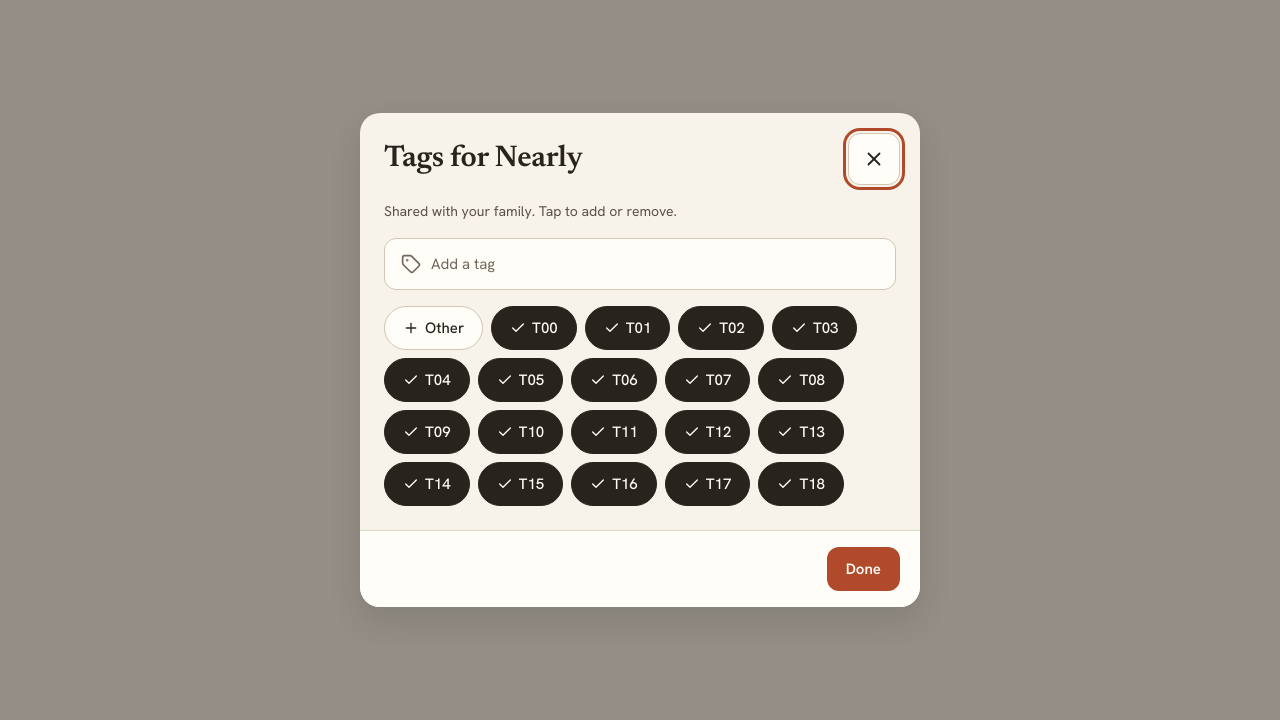
Test: TagSheet › keeps the 20-tag message in a live region that is there, empty, before the twentieth tag fills the show
Step 1. Click the button "Other" → (434, 328), box [384,306,483,350]
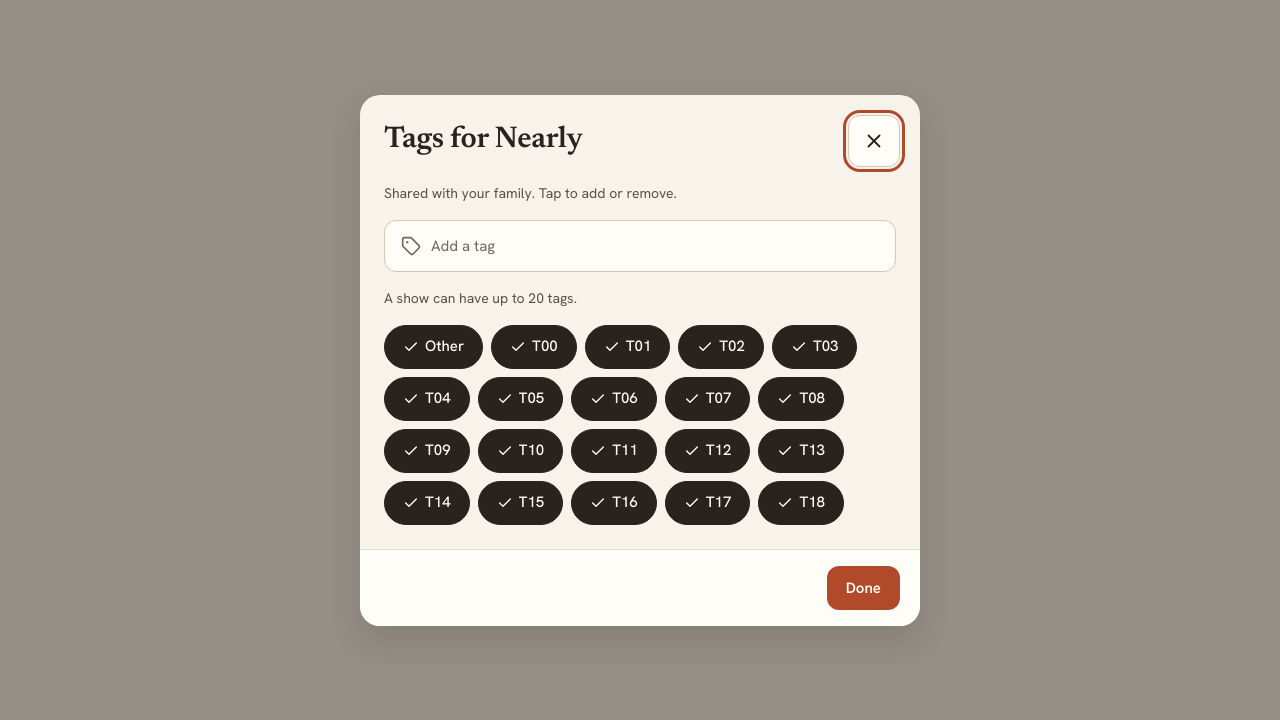
Check: the field with placeholder "Add a tag" is disabled, box [431,220,879,270]
